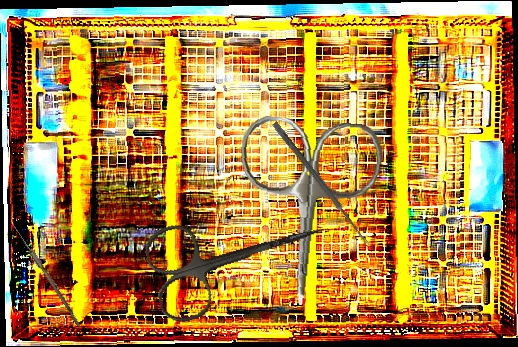Iris Scissors: (227, 114, 386, 311), (140, 185, 338, 327)
Surgical Spoon: (271, 121, 372, 248), (10, 223, 83, 327)
